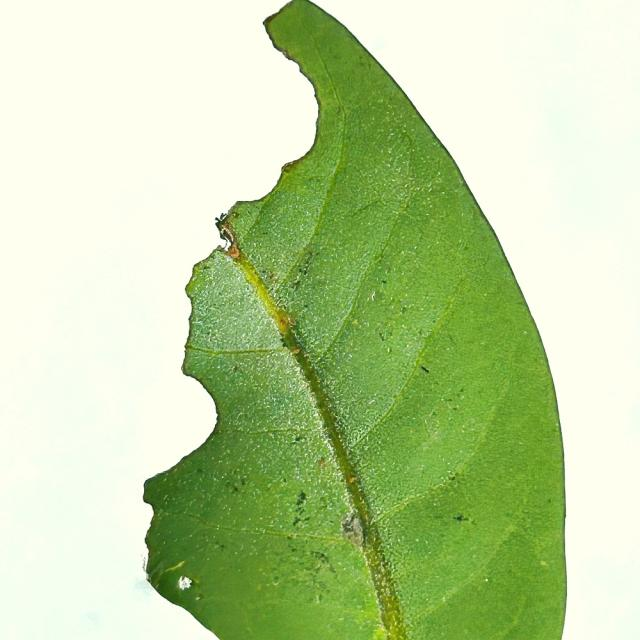Deficiency Leaf: (86, 9, 317, 550)
Lychee: (144, 0, 566, 639)
